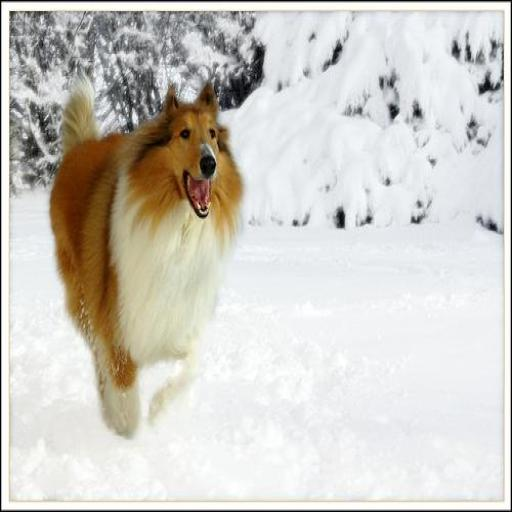dog_face: (162, 84, 223, 230)
